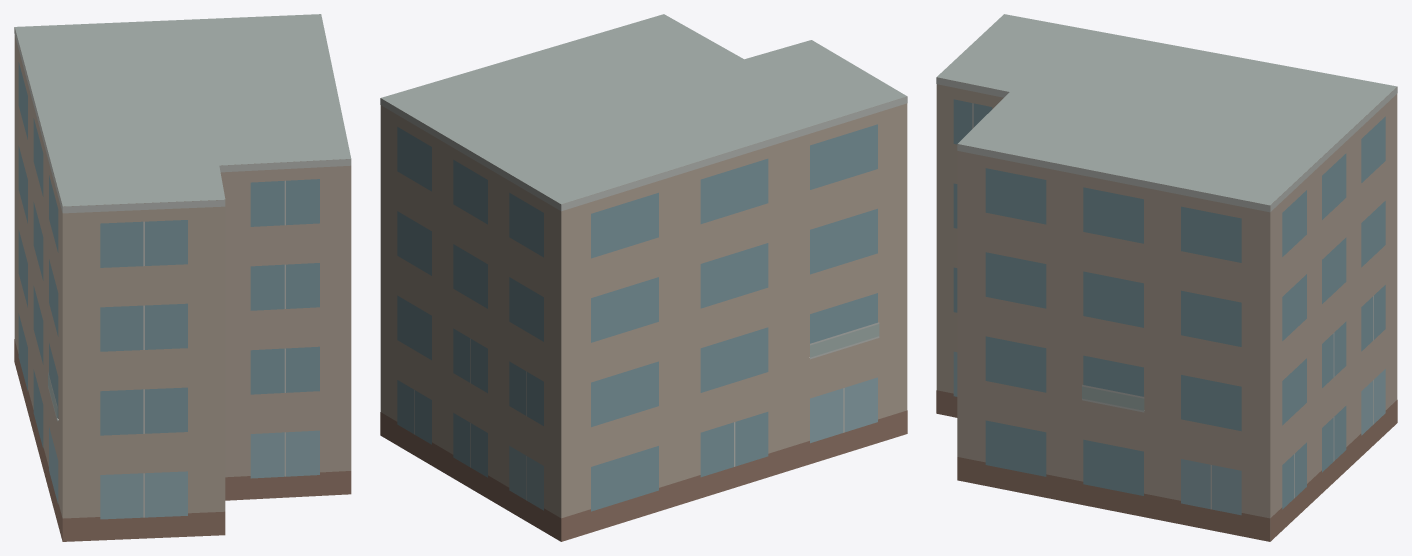
File: survey-upis-33025426.glb
The picture shows the model from 3 angles, left to right: view 1: azimuth 30°, elevation 25°; view 2: azimuth 150°, elevation 25°; view 3: azimuth 270°, elevation 25°; orthographic projection.
Visible parts, largest first — view 1: survey-upis-33025426.tmp; view 2: survey-upis-33025426.tmp; view 3: survey-upis-33025426.tmp.
Boxes of the visible parts, box(x1,y1,x2,y2) form: survey-upis-33025426.tmp: box(14, 14, 351, 541); survey-upis-33025426.tmp: box(380, 14, 907, 541); survey-upis-33025426.tmp: box(936, 14, 1397, 541).
Size of the model in its own units: 14.47 by 11.85 by 14.73.
